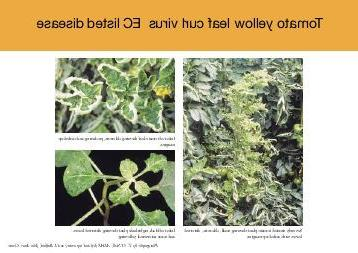Tomato leaf yellow virus: (56, 155, 101, 199), (58, 76, 102, 117), (95, 61, 129, 92), (138, 96, 166, 131), (115, 158, 142, 183), (117, 96, 141, 123)
